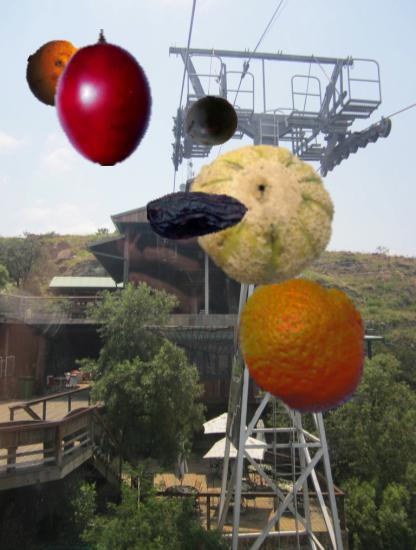Cantaloupe: (187, 139, 335, 287)
Dates: (147, 164, 249, 266)
Granadilla: (25, 39, 96, 110)
Mandarine: (230, 269, 378, 417)
Plum: (184, 94, 239, 149)
Tamarillo: (35, 29, 173, 167)
